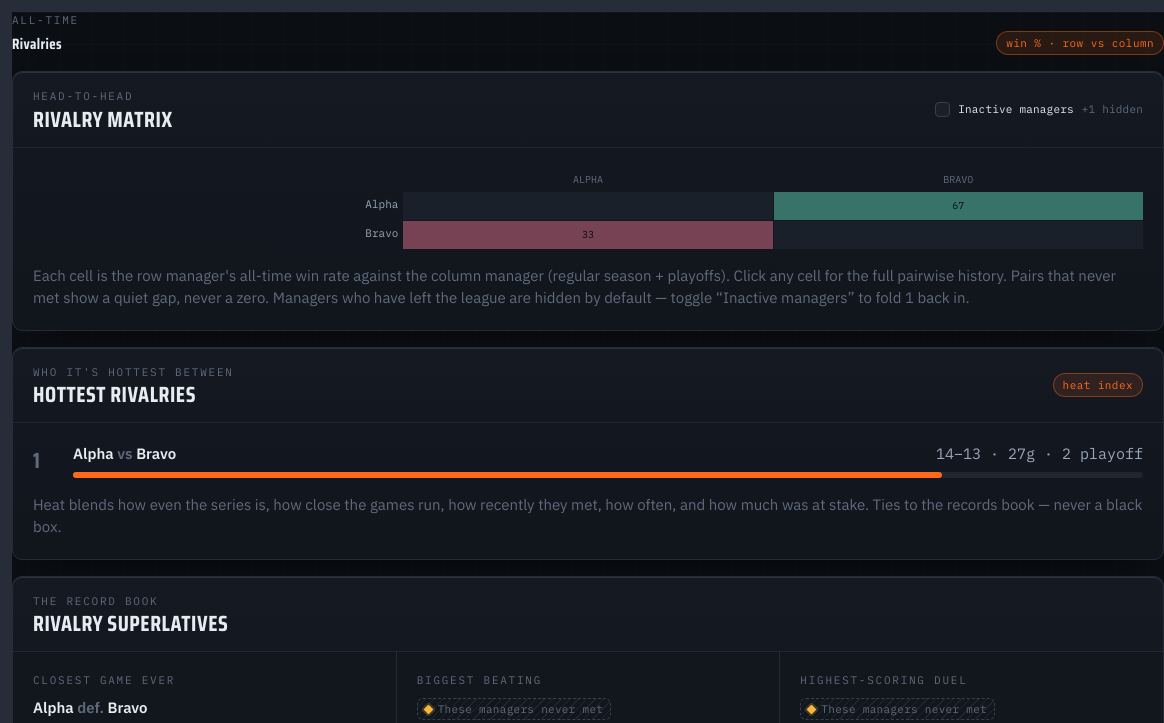
Test: RivalriesPage › hides inactive managers until the toggle is checked
The image size is (1164, 723).
Expected: the text "Alpha" is shown, [365,196,398,210]
Expected: the element "Charlie" is not shown
Step 1. Click the checkbox labelled "Inactive managers +1 hidden" → click(943, 109), box [935,102,950,117]
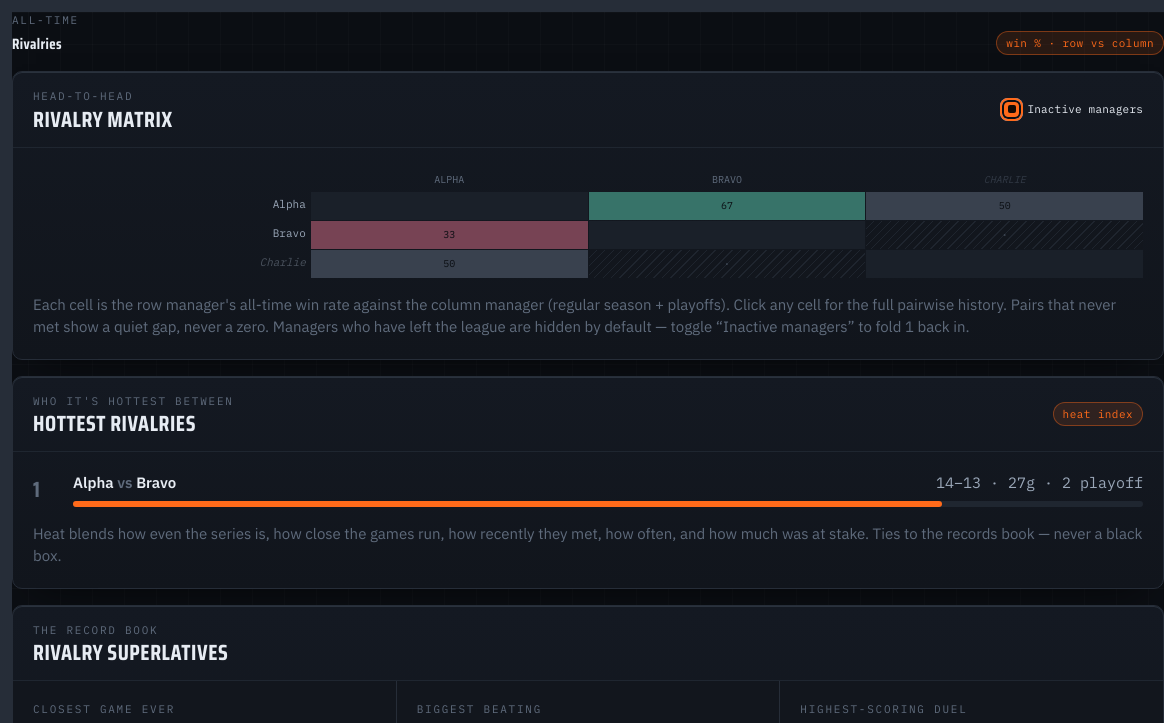
Expected: the text "Charlie" is shown, [260,254,306,268]
